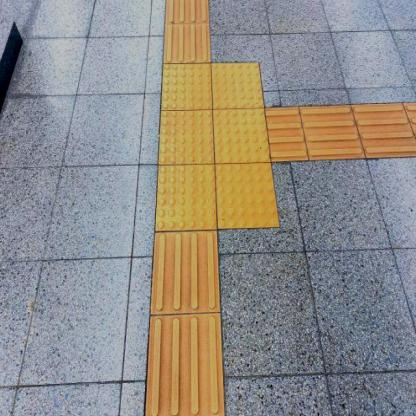podotacti: (119, 19, 322, 299), (147, 233, 225, 413), (272, 99, 415, 161), (163, 0, 211, 62)
